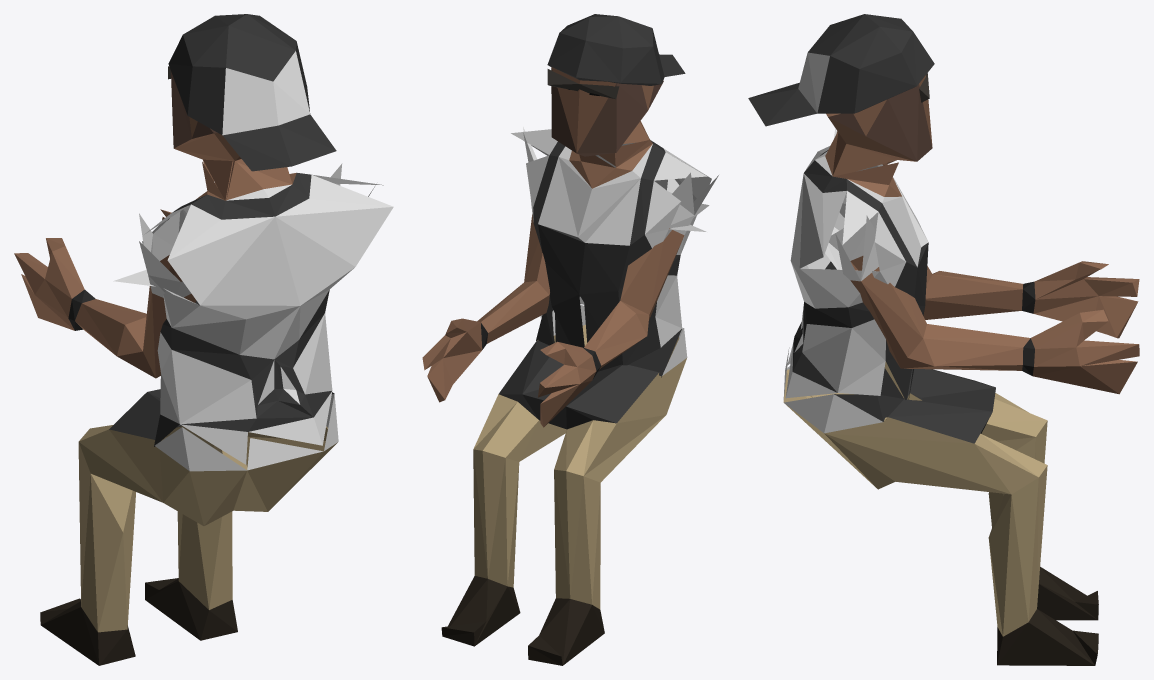
Rendered from Seated_Greatuncle.obj.
The picture shows the model from 3 angles, left to right: view 1: azimuth 30°, elevation 25°; view 2: azimuth 150°, elevation 25°; view 3: azimuth 270°, elevation 25°; orthographic projection. The views are drawn at different scales.
Visible parts, largest first — view 1: Seated_Greatuncle; view 2: Seated_Greatuncle; view 3: Seated_Greatuncle.
Part boxes in pixels (left/top/right/bottom): Seated_Greatuncle: left=14, top=14, right=393, bottom=665; Seated_Greatuncle: left=422, top=14, right=718, bottom=665; Seated_Greatuncle: left=748, top=14, right=1139, bottom=665.
Bounding box in the file's own units: 0.5854 × 1.49 × 0.8601.
Materials: 1 (1 with a texture image).
